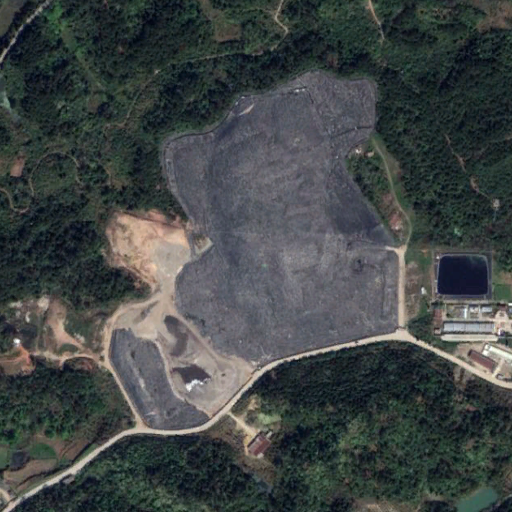lf: (111, 77, 410, 433)
